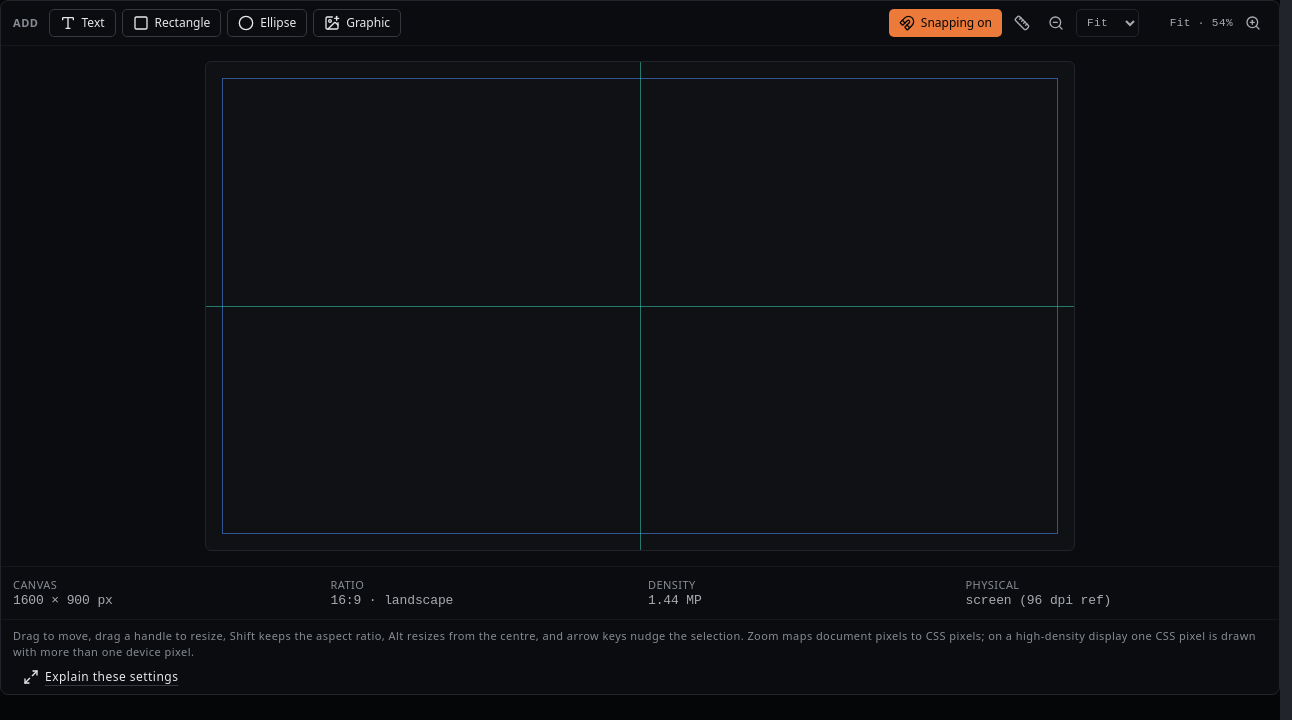
Test: DocumentStage zoom › says that the canvas is larger than the pane rather than pretending it fits
Select "200%" in the dropdown named "Zoom level". click: (1108, 23)
box: [1076,9,1139,37]
(page scrolled)
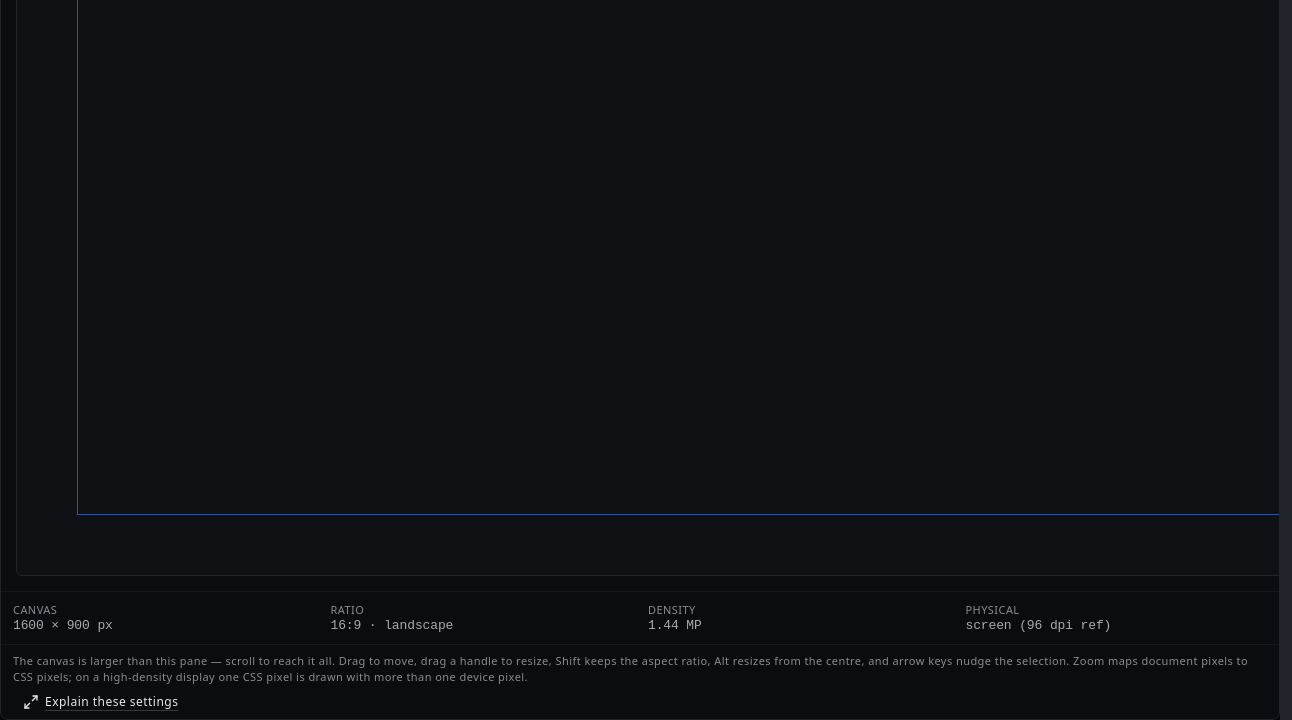
Check: the text with test id "zoom-clipped-note" shows "scroll to reach it all", box [13,653,335,668]
